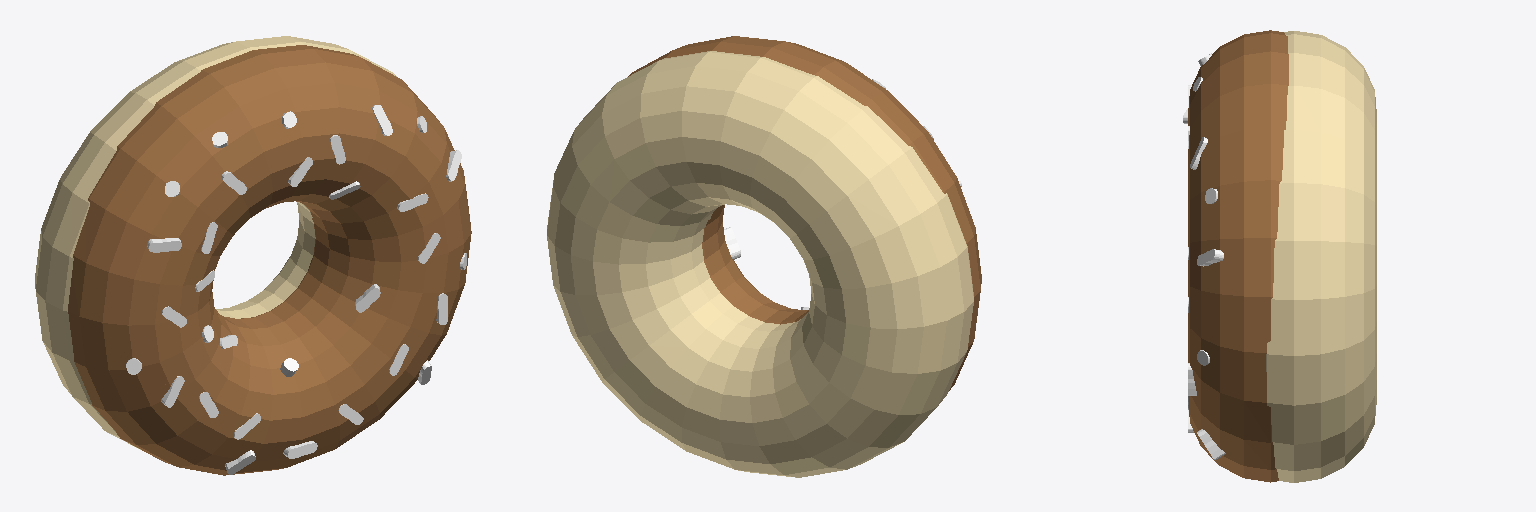
File: end.obj
The picture shows the model from 3 angles: view 1: azimuth 30°, elevation 25°; view 2: azimuth 150°, elevation 25°; view 3: azimuth 270°, elevation 25°; orthographic projection.
Visible parts, largest first — view 1: obj_0; view 2: obj_0; view 3: obj_0.
Part boxes in pixels (x1,y1,x2,y2): obj_0: (35,36,471,475); obj_0: (547,36,981,477); obj_0: (1183,30,1376,482).
Bounding box in the file's own units: 59.51 × 57.26 × 24.58.